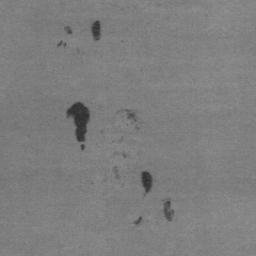Iron scale compression: (66, 102, 90, 151), (141, 172, 152, 206), (162, 201, 175, 223), (90, 21, 101, 42), (63, 26, 73, 36), (134, 216, 143, 225), (57, 41, 66, 47)
